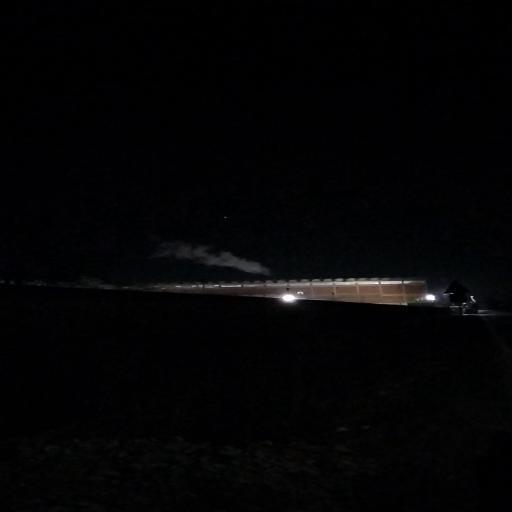leakage: (146, 235, 278, 280)
